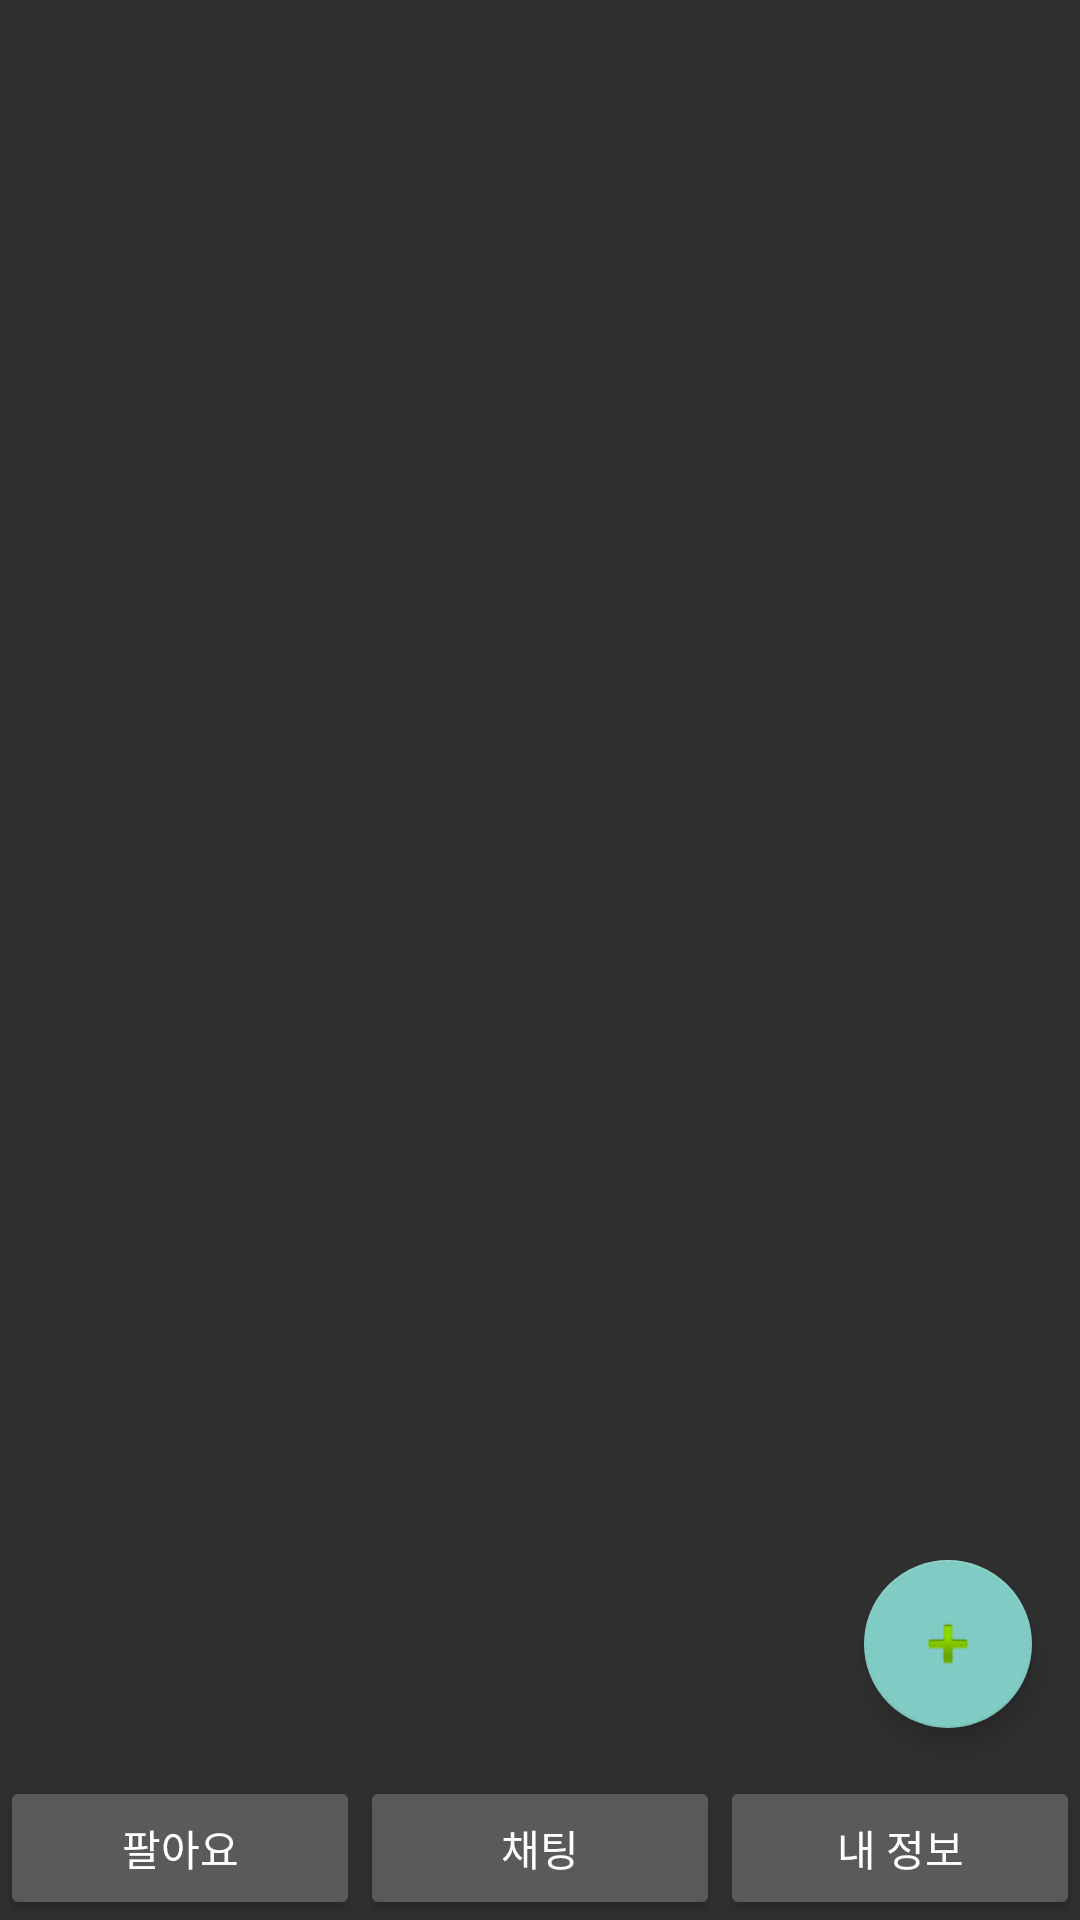

Named icons in this screenshot (1080px×1920px) and their centers, (x,y):
add: (948,1644)
